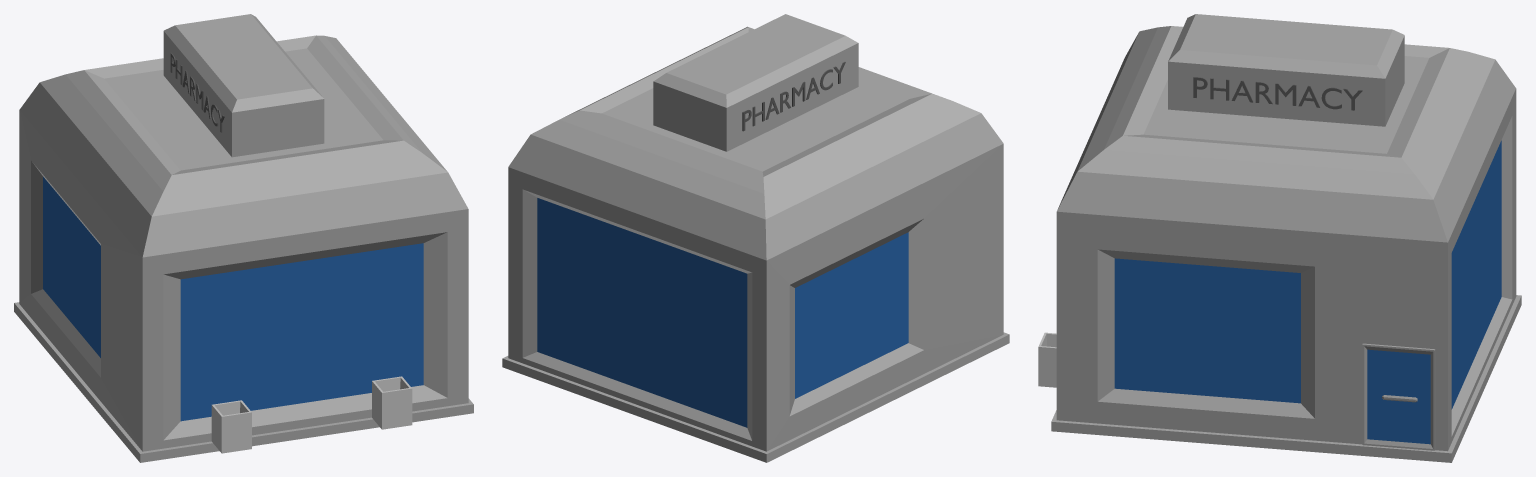
File: pharmacy.glb
3 views of the same model, side by side, from view 1: azimuth 30°, elevation 25°; view 2: azimuth 150°, elevation 25°; view 3: azimuth 270°, elevation 25° (orthographic). The views are drawn at different scales.
Parts seen in each view (by area): view 1: PHARMACY; view 2: PHARMACY; view 3: PHARMACY.
Boxes of the visible parts, left/top/right/bottom form: PHARMACY: left=14, top=14, right=473, bottom=462; PHARMACY: left=502, top=14, right=1009, bottom=462; PHARMACY: left=1038, top=14, right=1521, bottom=462.
Size of the model in its own units: 17.62 by 14.24 by 18.99.
Materials: 1 (1 with a texture image).
